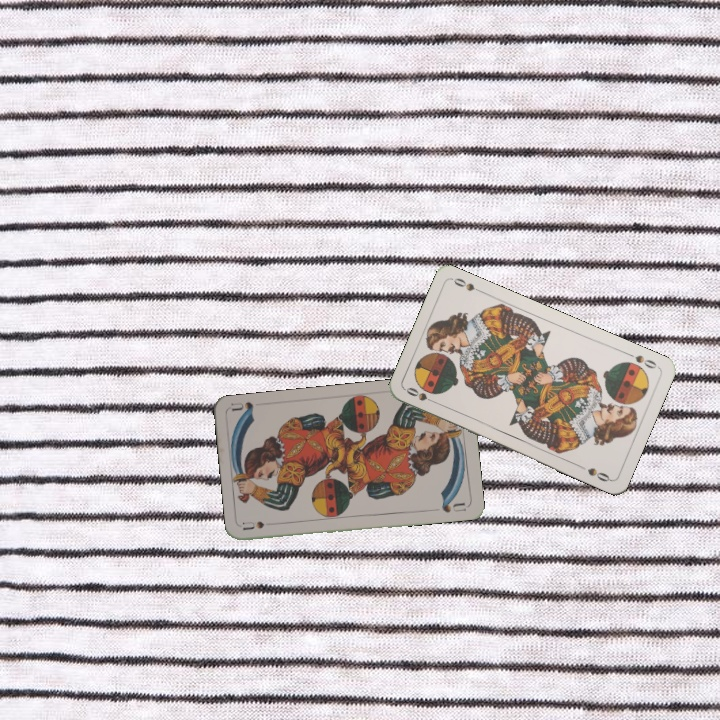SO: (402, 383, 441, 407), (622, 348, 661, 371)
SU: (239, 517, 280, 533)
